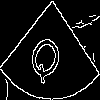Q: (25, 25, 70, 88)
